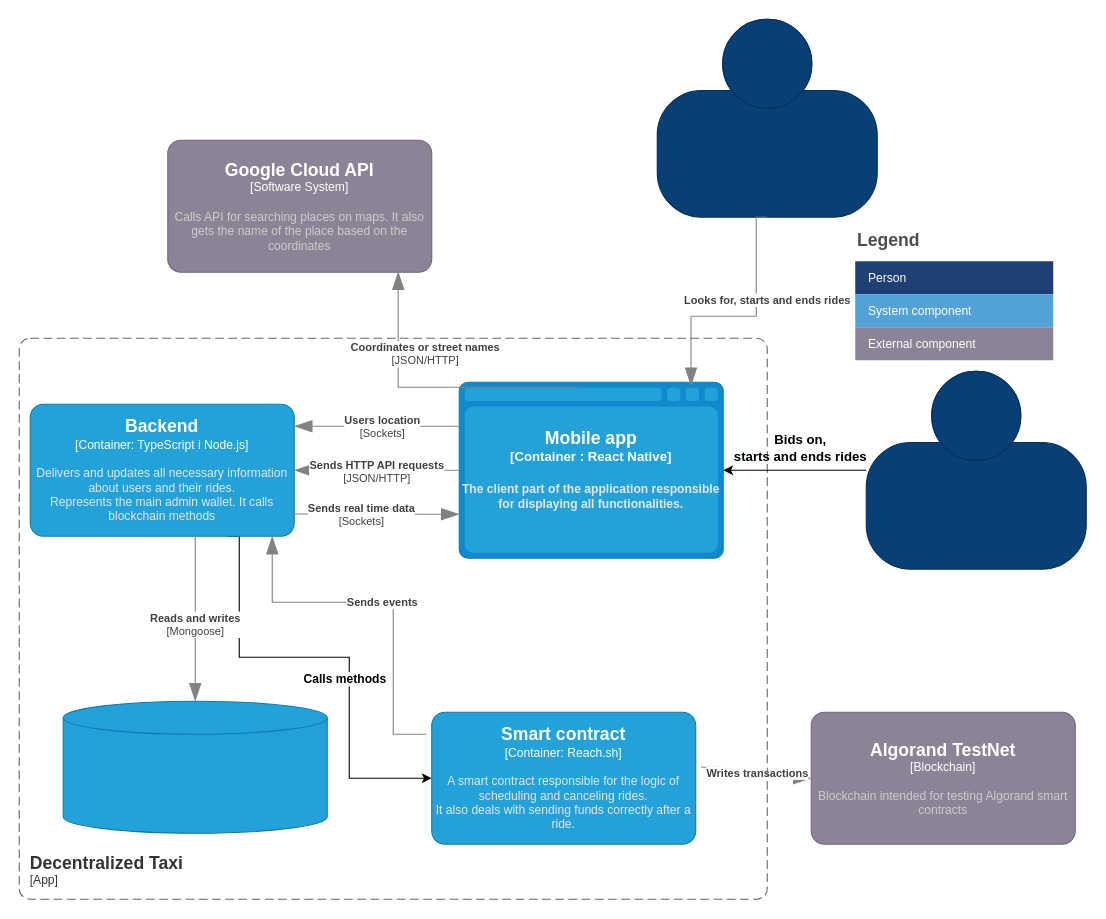
Image size: 1106x919. Some labels were removed from this diagram. The shapes that lost their labels are listed below. From the top down, each one's centre as x and y in pixels, then its label:
the point at 766,117: Passenger [Person] Passenger with a crypto wallet
the point at 975,469: Driver [Person] Driver with a crypto wallet
the point at 194,766: Baza podataka [Container : MongoDb] Stores data about users and their rides
